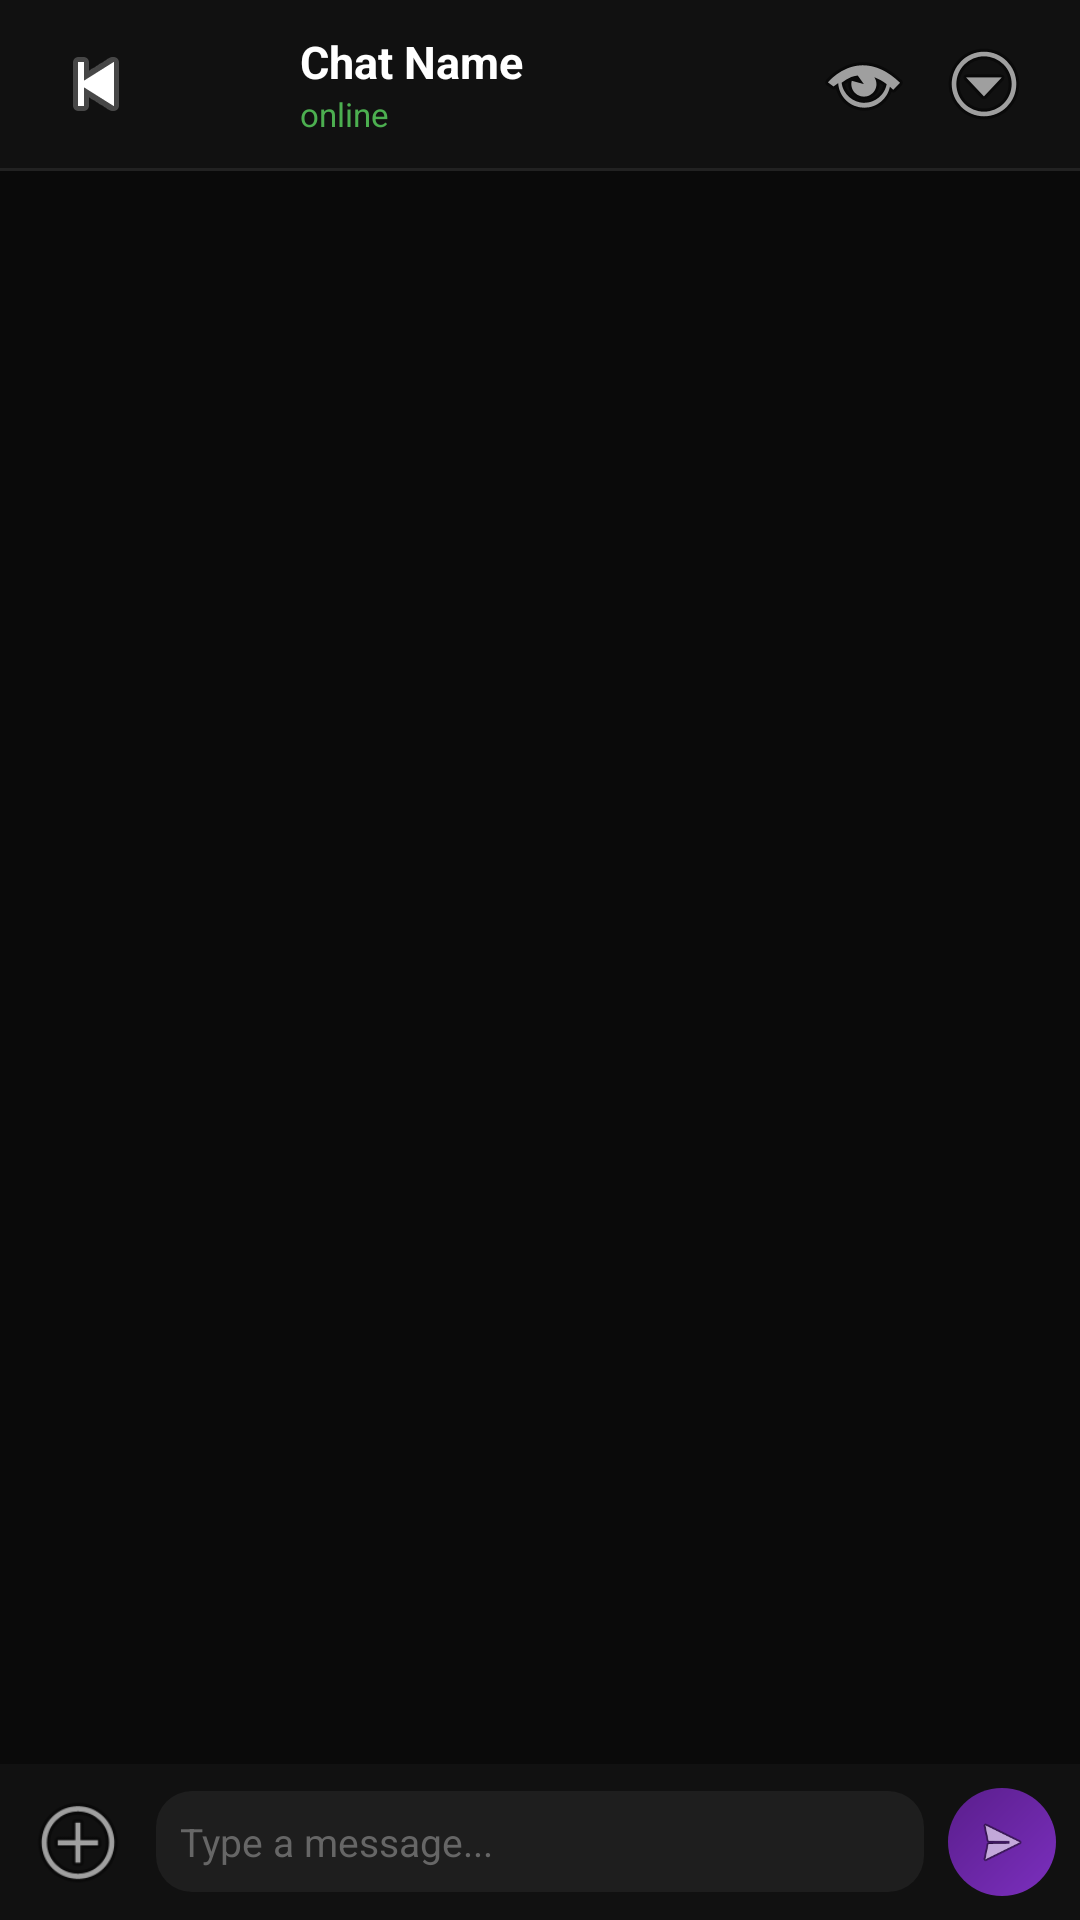

Icons on this 1080 × 1920 Android screen, each with its box as rect(x1, y1, x2, y2):
add: rect(41, 1806, 115, 1879)
more: rect(951, 52, 1017, 117)
previous: rect(73, 57, 119, 111)
send: rect(948, 1788, 1056, 1896)
view: rect(828, 65, 900, 108)
